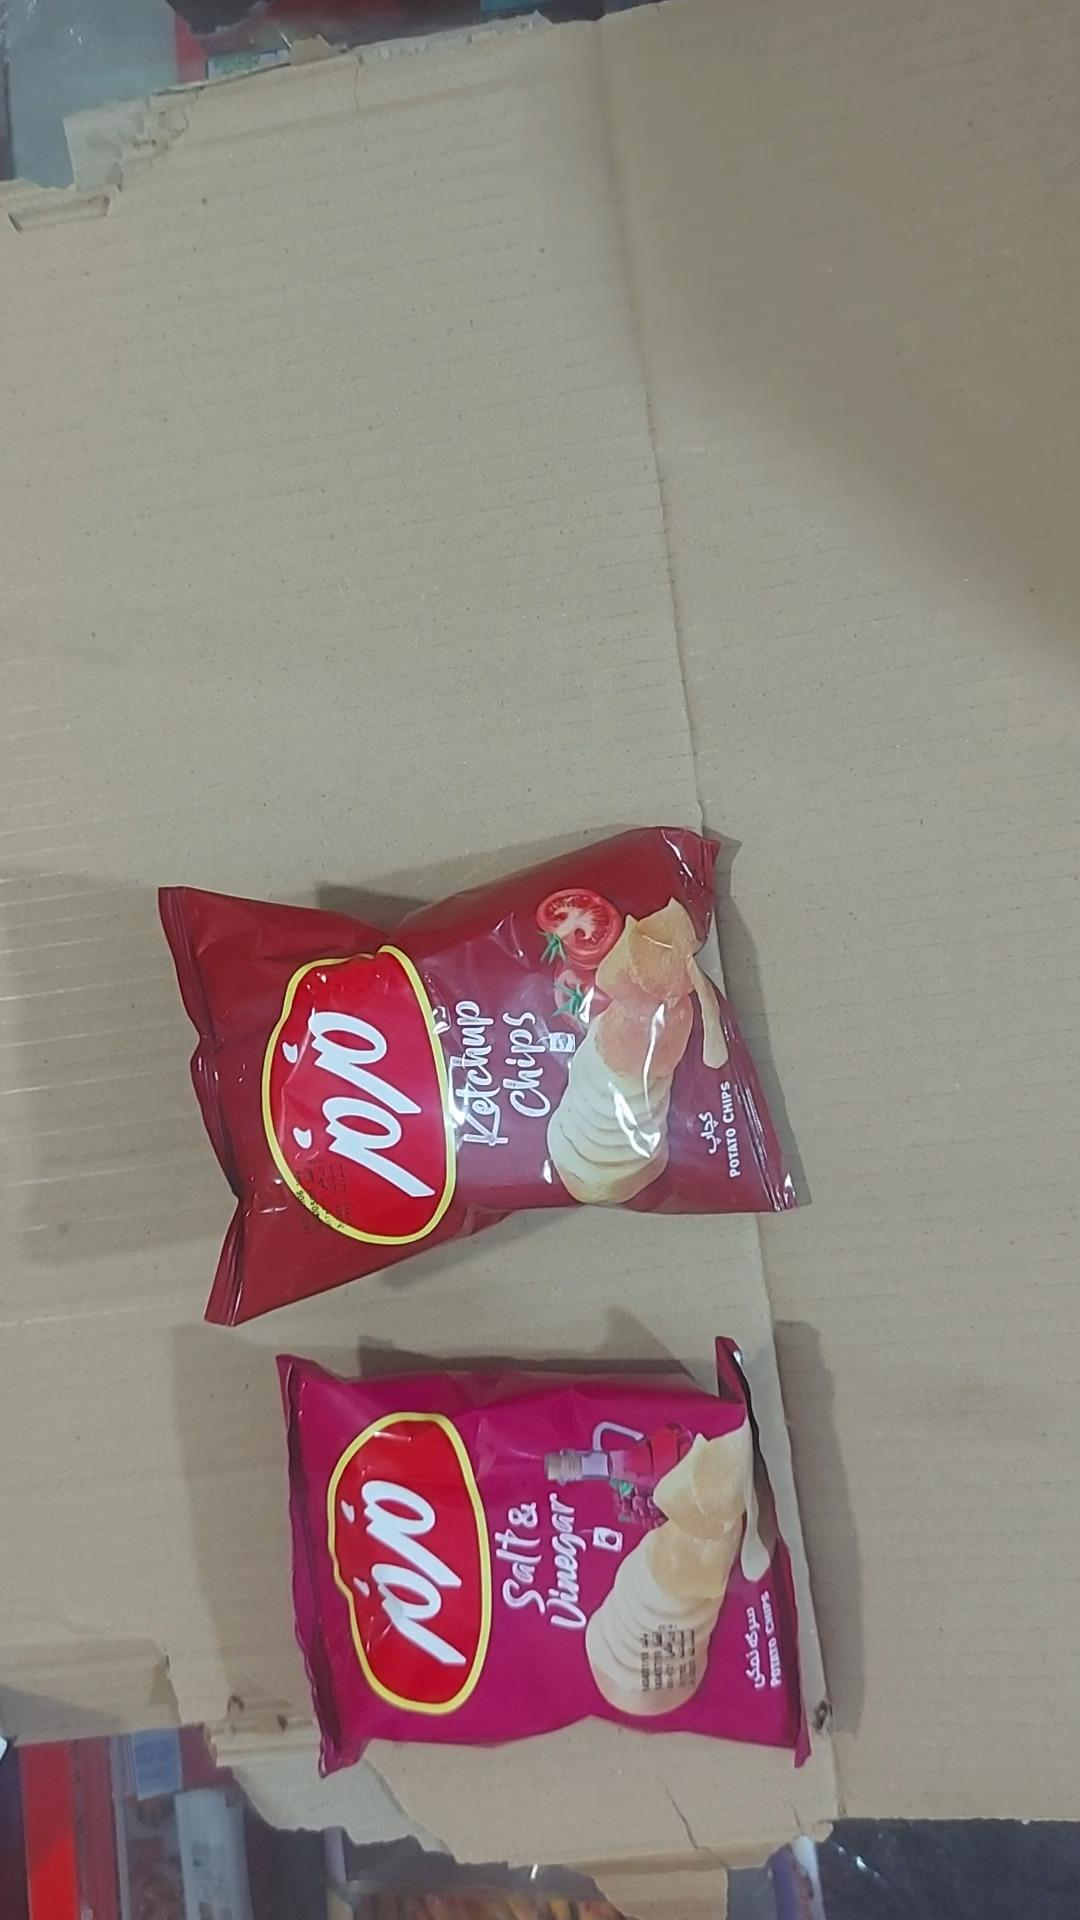Maz Maz ketchup chips: (160, 828, 798, 1324)
Maz Maz vinegar chips: (280, 1338, 808, 1771)
